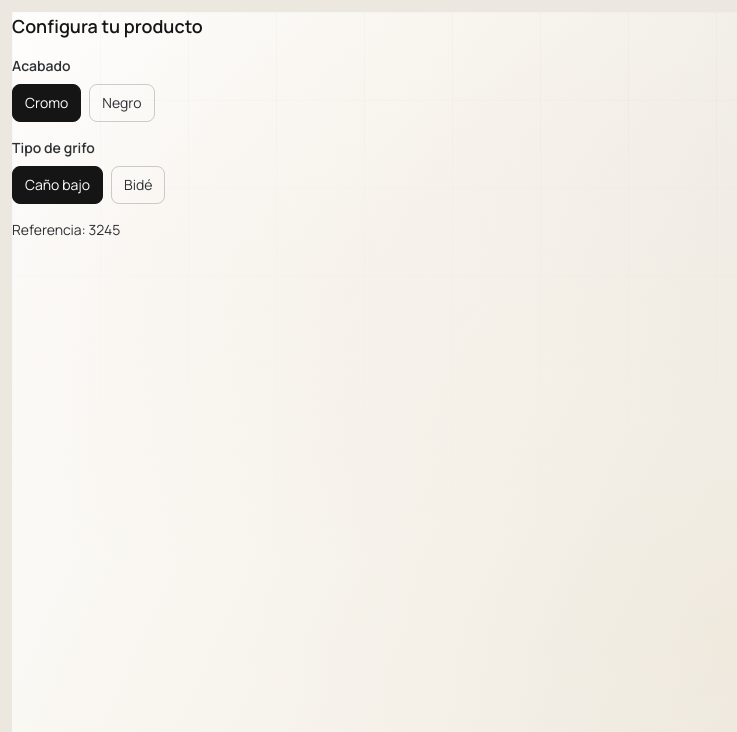
it: ProductVariantSelector › GME IO grifería › disables incompatible finish and type combinations and matches variants exactly
What coordinates should you click on to do the following:
click the button "Negro"
I would click on:
 (122, 103)
Its box is [89,84,155,122].
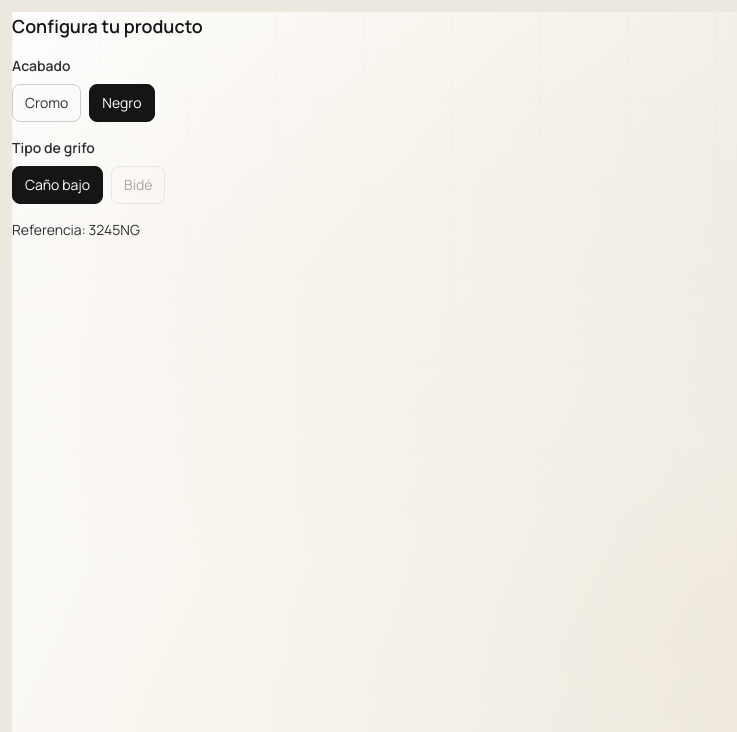
expect the button "Bidé" is disabled: met, box [111,166,165,204]
